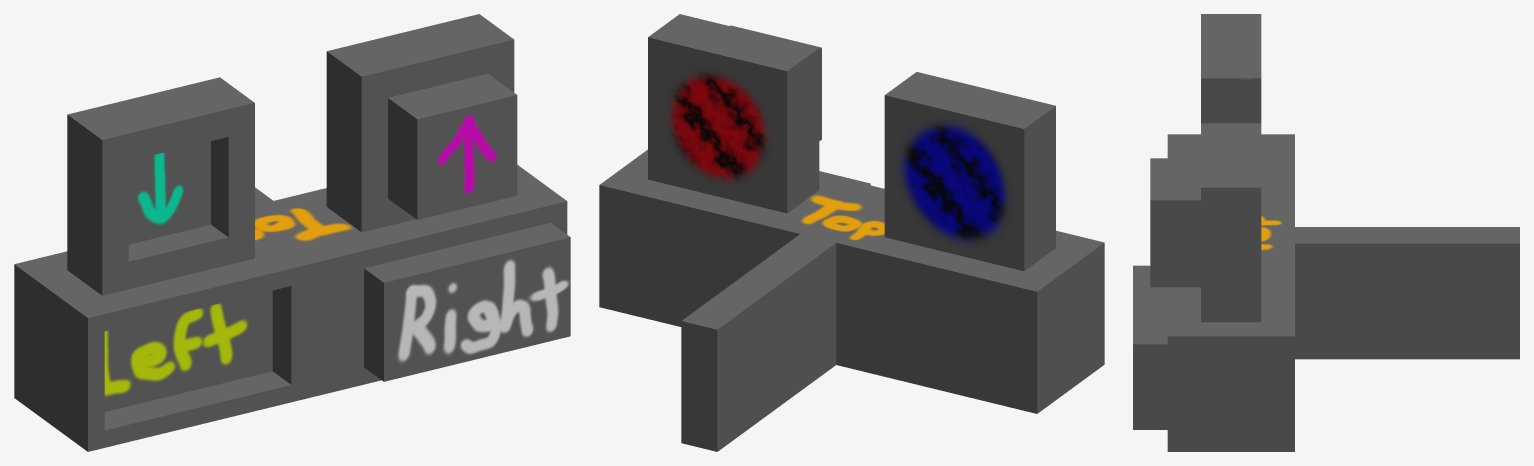
Rendered from xyz_test.glb.
The picture shows the model from 3 angles, left to right: view 1: azimuth 30°, elevation 25°; view 2: azimuth 150°, elevation 25°; view 3: azimuth 270°, elevation 25°; orthographic projection. The views are drawn at different scales.
Visible parts, largest first — view 1: Cube; view 2: Cube; view 3: Cube.
Part boxes in pixels (x1,y1,x2,y2): Cube: (14,14,570,451); Cube: (599,14,1104,451); Cube: (1133,14,1519,451).
Bounding box in the file's own units: 7.5 × 4.33 × 6.07.
1 material, 1 textured.
